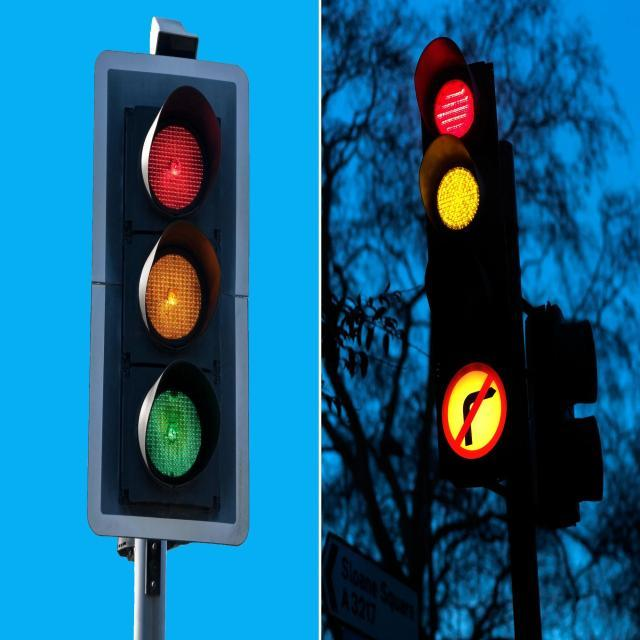suv: (87, 48, 250, 546), (414, 35, 526, 489), (524, 302, 604, 530)
